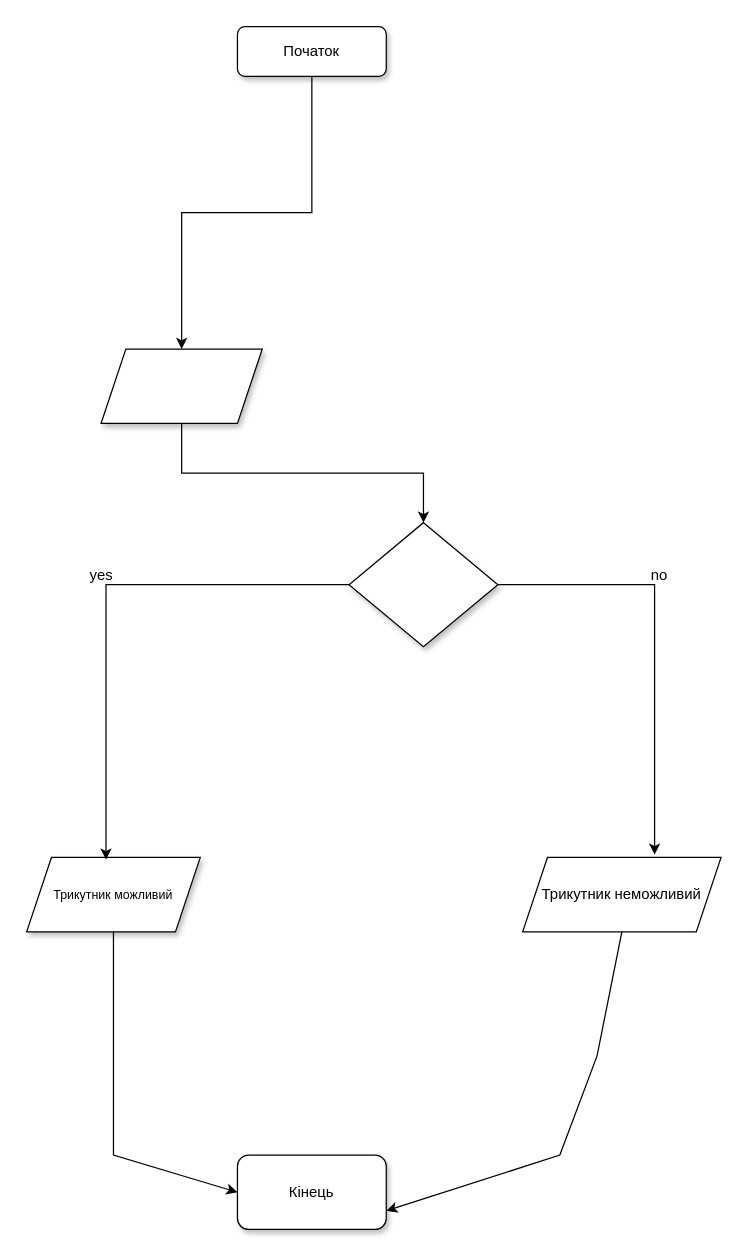
Image size: 743x1260. Some labels were removed from this diagram. Here are the shapes that lost their labels. From the top down, the centre of each, then its label:
At (x=182, y=387): "Введеня a, b, c,".
At (x=424, y=585): "a + b > c && a + c >b && b + c > a".
